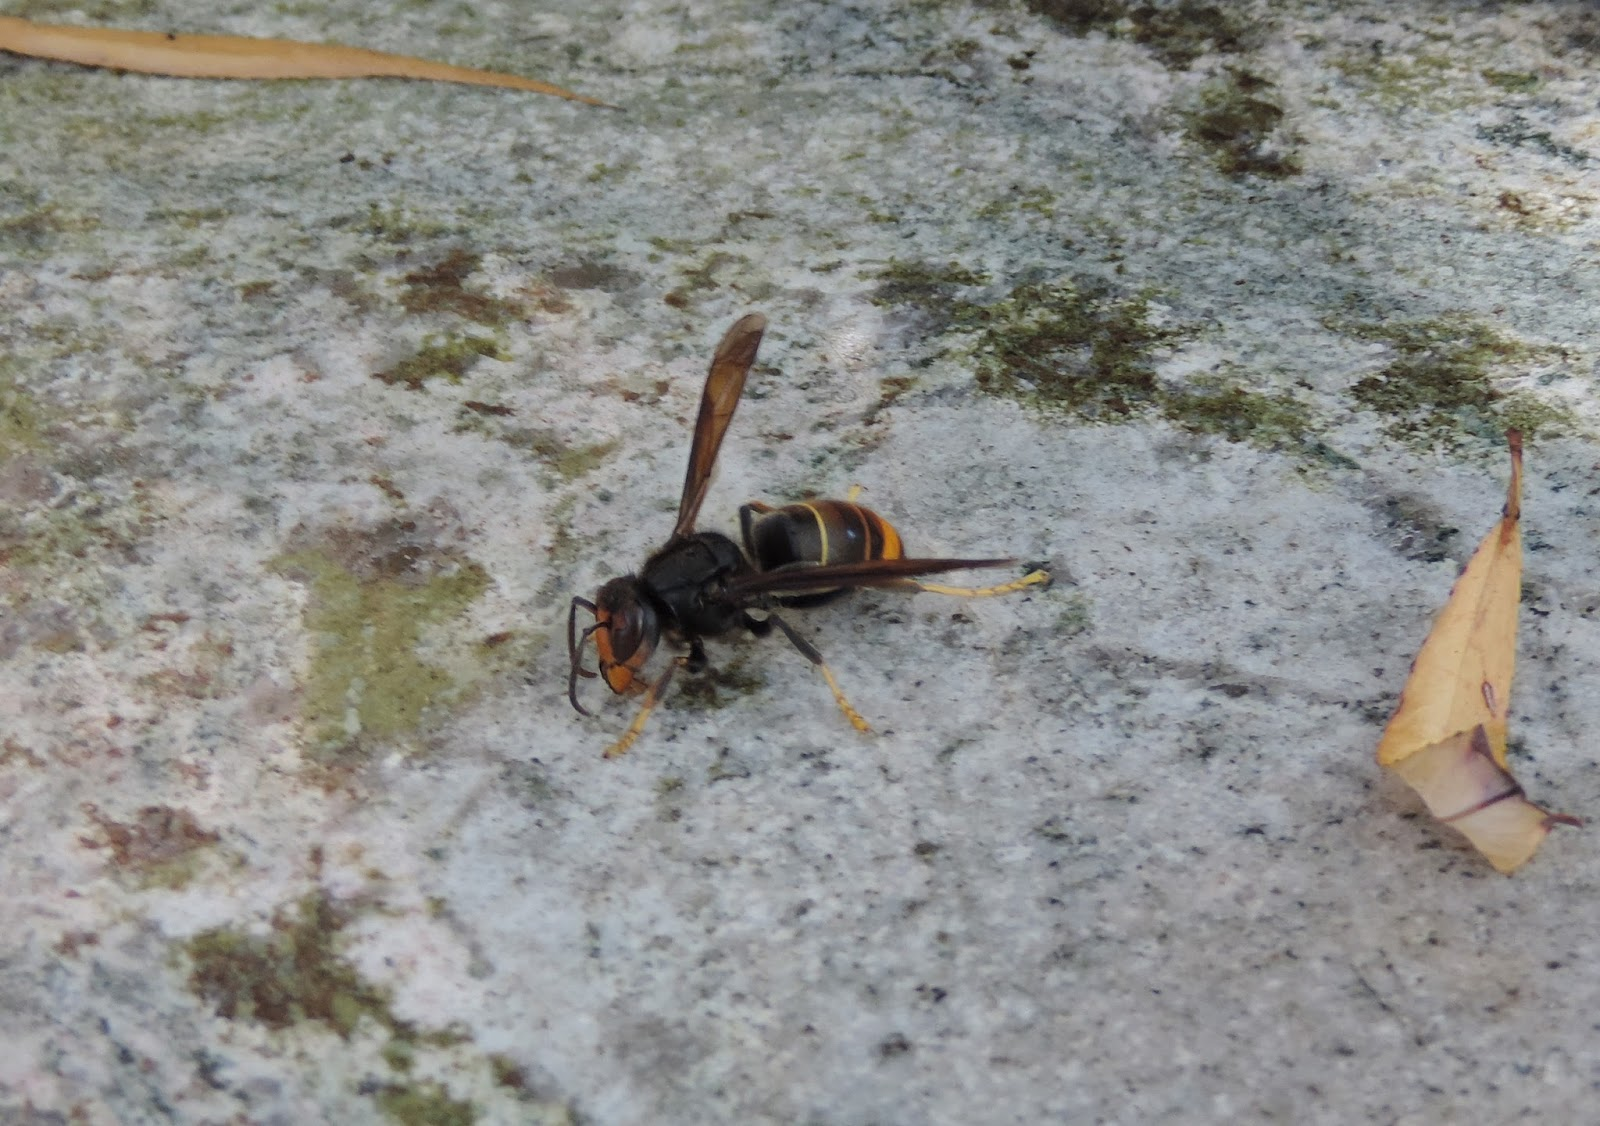hornet: (558, 434, 1016, 718)
